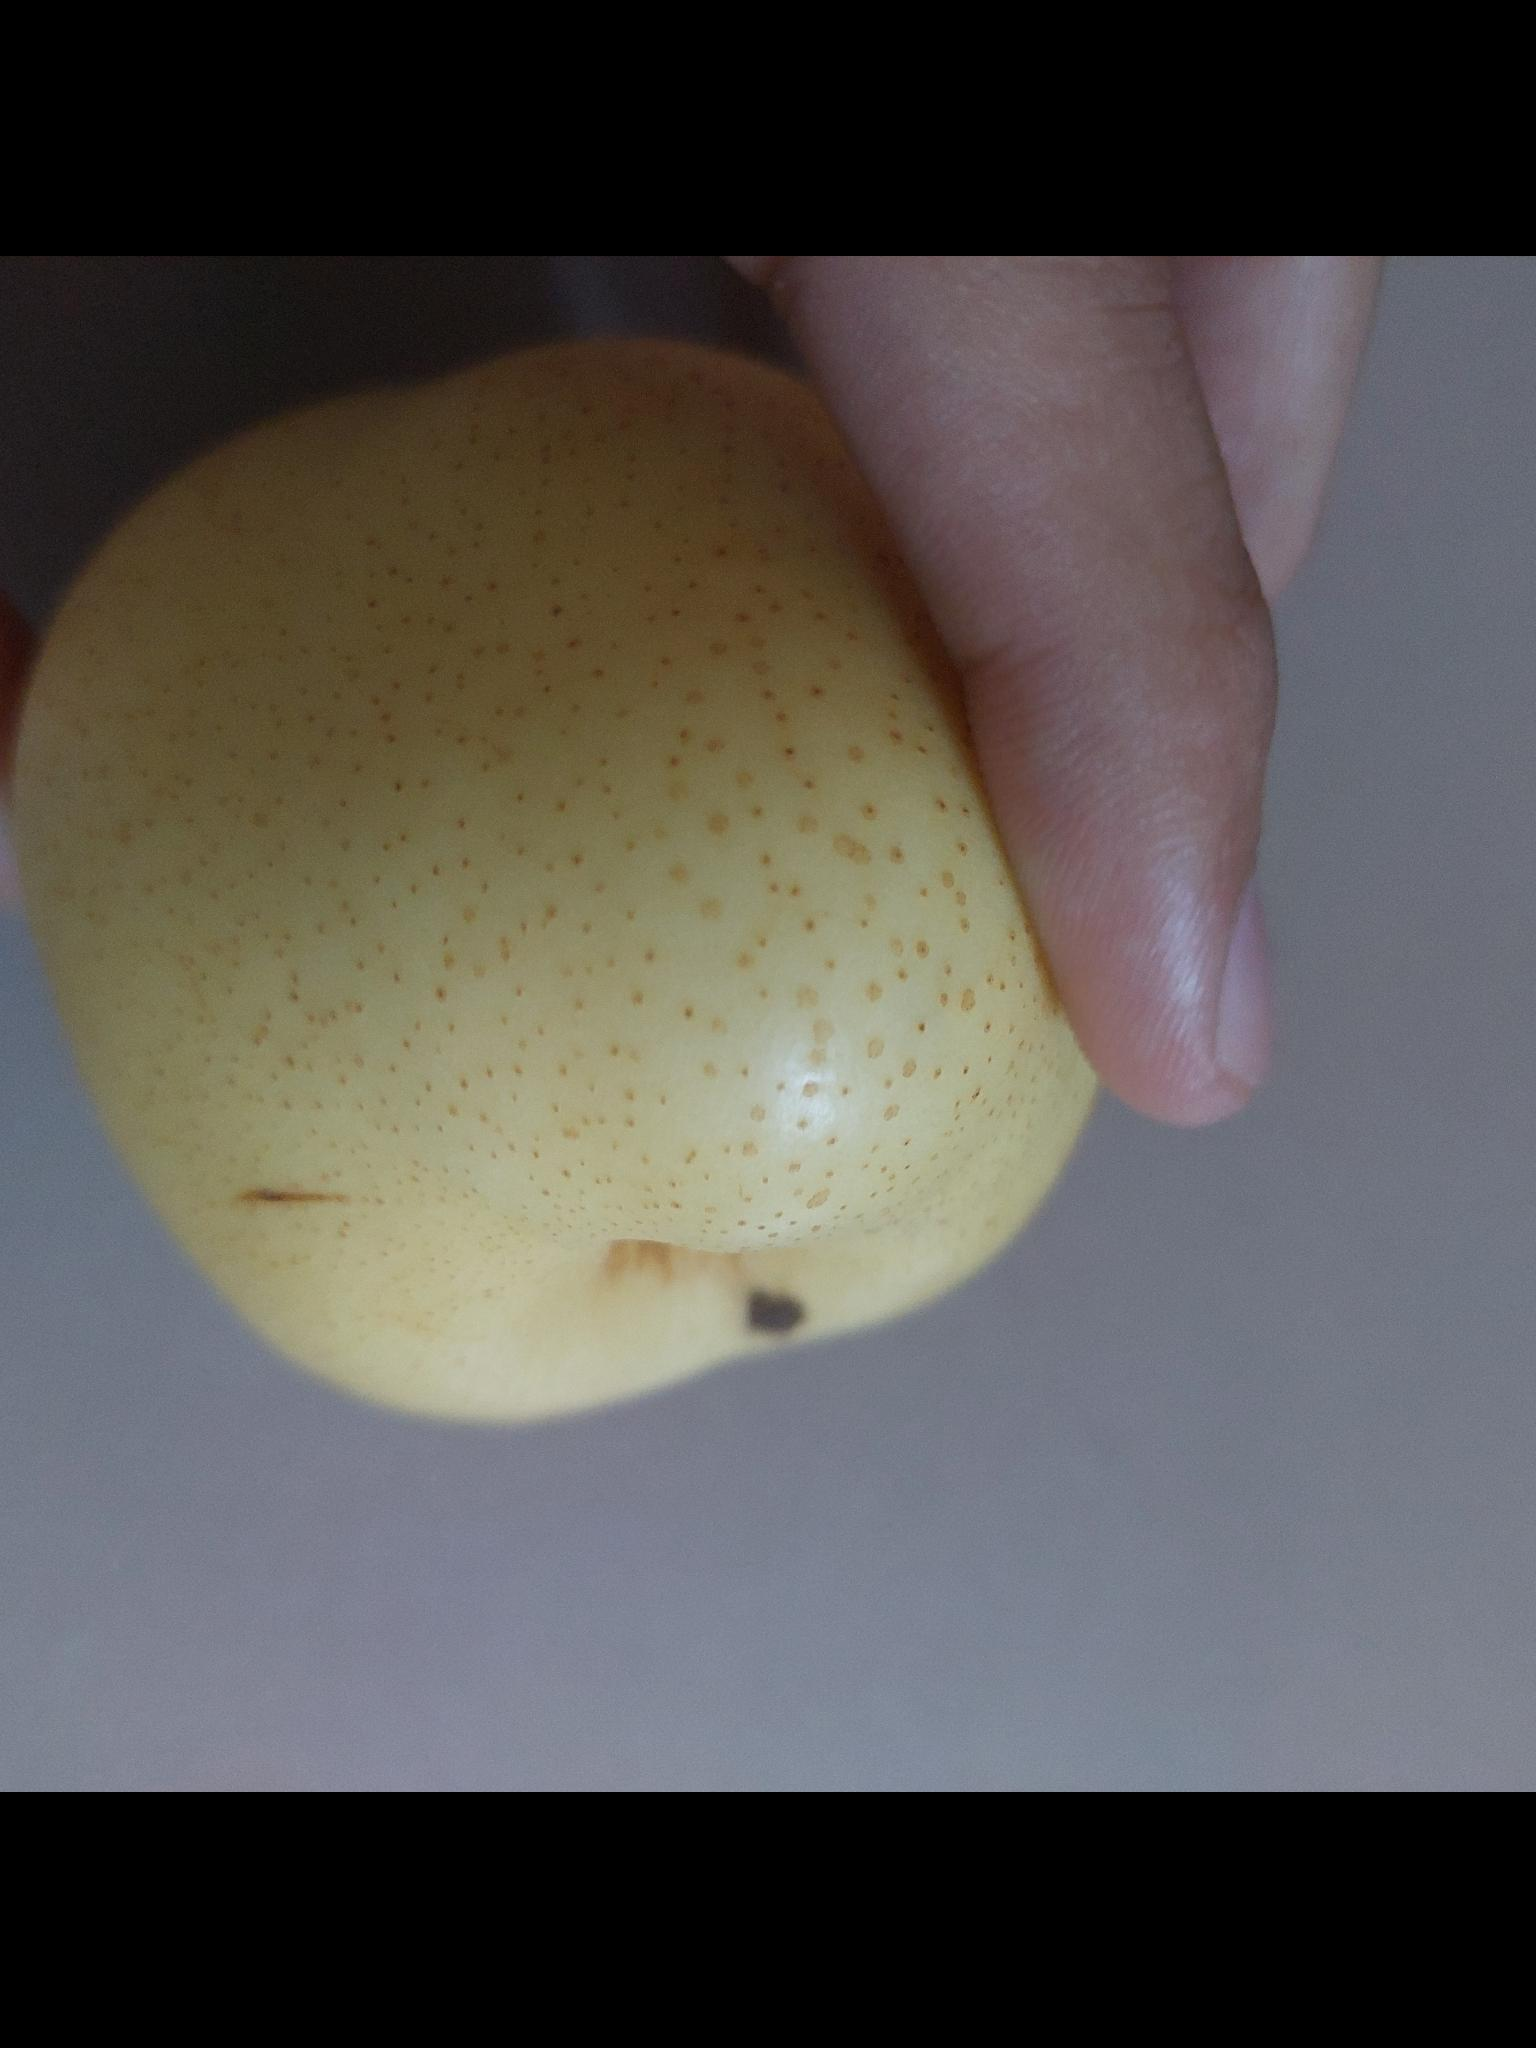Good Pear: (28, 351, 1050, 1451)
